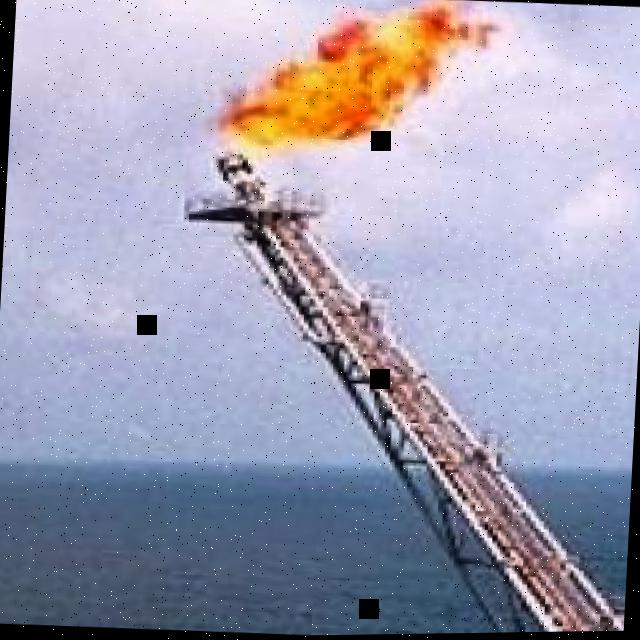fire: (233, 1, 504, 146)
